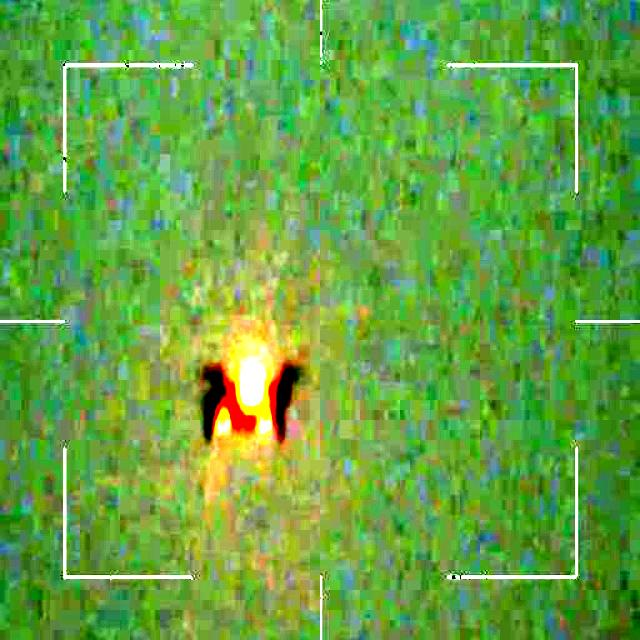bird: (198, 342, 306, 446)
